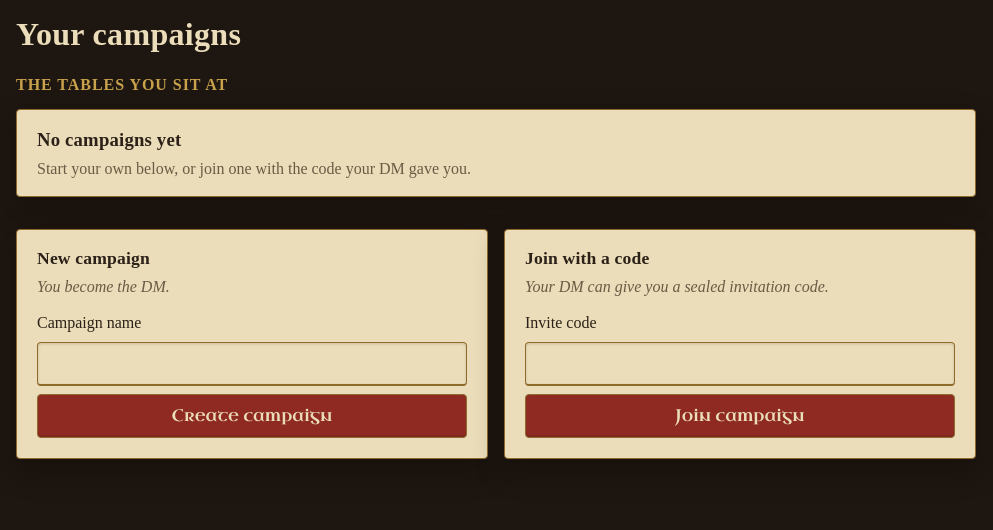
Test case: campaign list › acceptance 3: a wrong code shows a friendly message and stays on the list
Type "WRONG" into the field labelled "Invite code" at (740, 364), box 525,342 -> 955,386
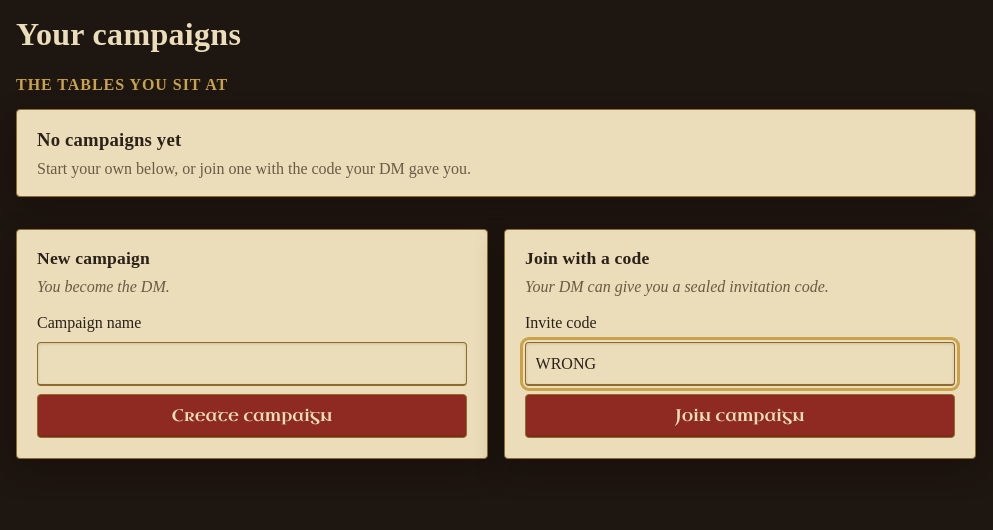
Click the button "Join campaign" at (740, 416), box 525,394 -> 955,438
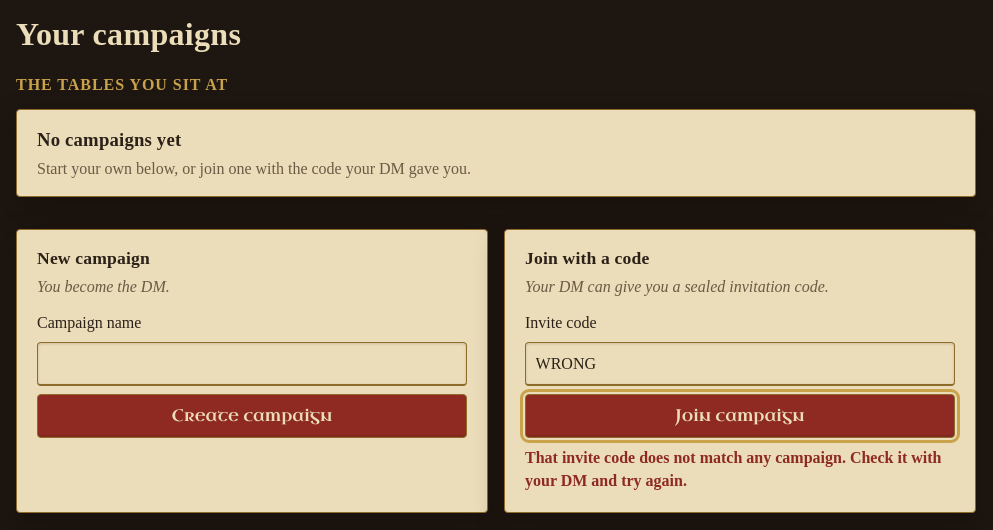
Expected: the heading "Your campaigns" is shown, 16,16 -> 241,52
Now the message shows "does not match any campaign", box 525,449 -> 942,489
